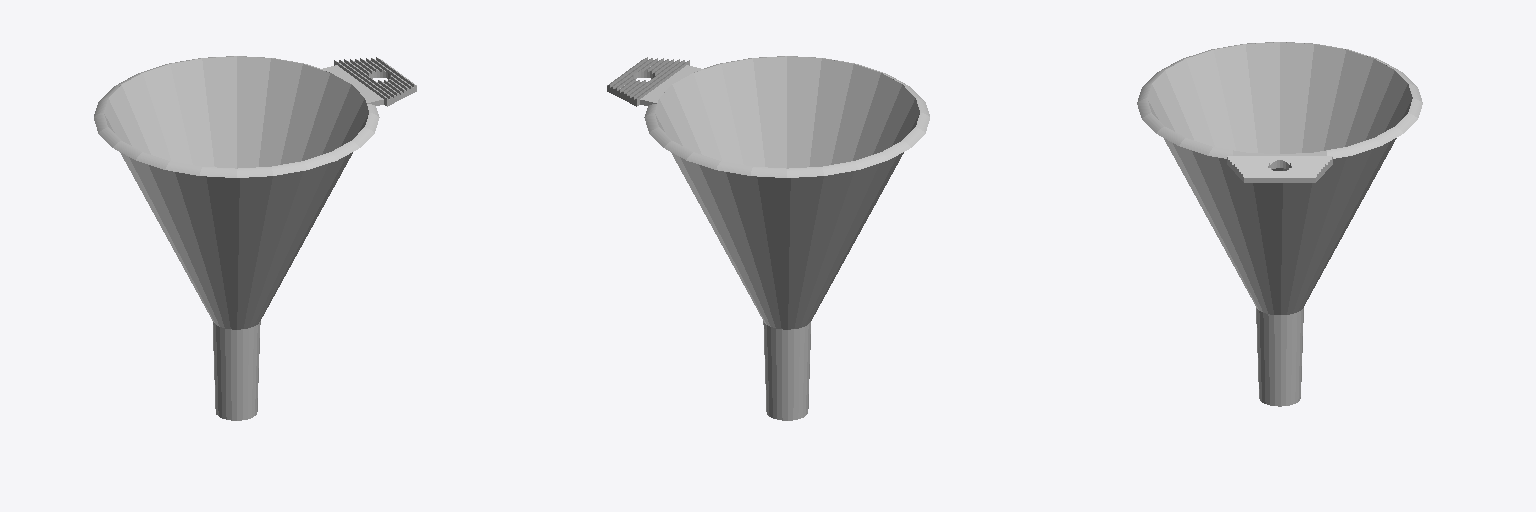
The model's file is Trechter.obj.
3 views of the same model, side by side, from view 1: azimuth 30°, elevation 25°; view 2: azimuth 150°, elevation 25°; view 3: azimuth 270°, elevation 25° (orthographic).
Visible parts, largest first — view 1: group_1, group_0; view 2: group_1, group_0; view 3: group_1, group_0, group_2.
Boxes of the visible parts, x1,y1,x2,y2 form: group_1: [104, 56, 368, 420]; group_0: [94, 56, 383, 177]; group_1: [655, 56, 919, 420]; group_0: [640, 56, 929, 177]; group_1: [1147, 42, 1412, 406]; group_0: [1137, 42, 1422, 158]; group_2: [1227, 159, 1332, 182].
Size of the model in its own units: 0.4958 by 0.4997 by 0.4286.